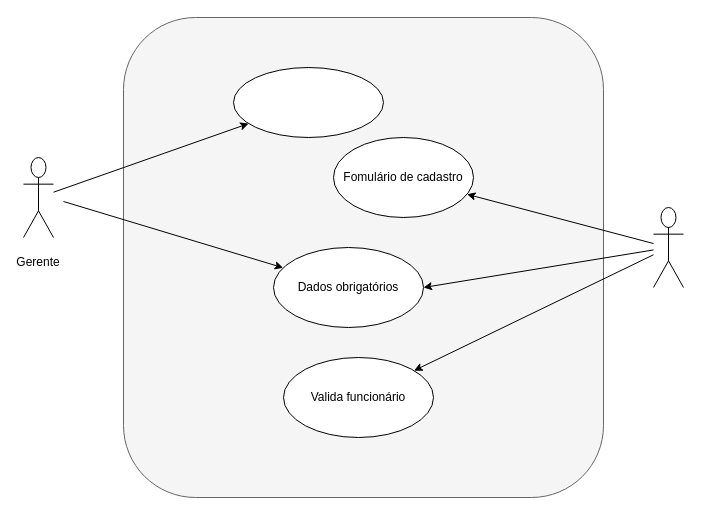
Image size: 707x515. Some labels were removed from this diagram. Here are the shapes that lost their labels. From the top down, the centre of each, then its label:
point (308, 102): Crud Funcionário
point (668, 247): Sistema
